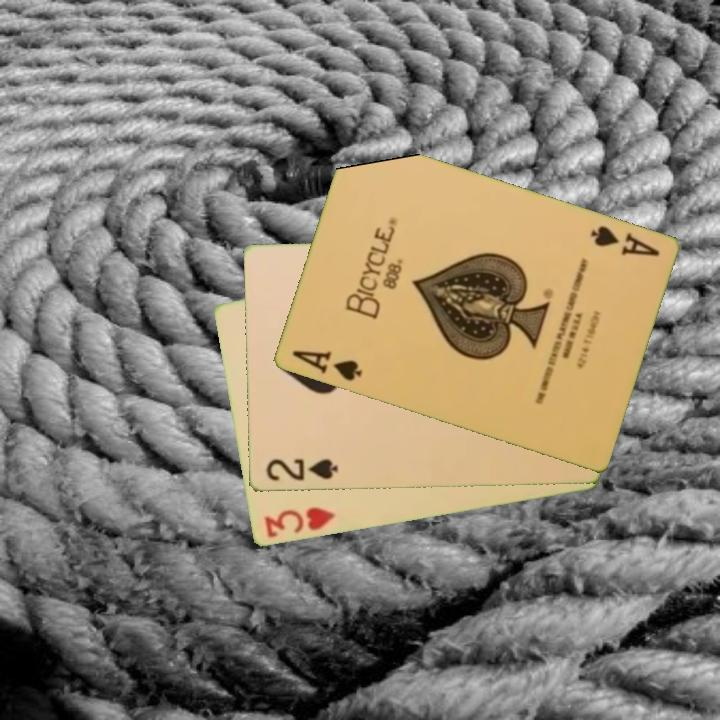2s: (262, 455, 340, 484)
3h: (260, 503, 338, 541)
As: (288, 347, 365, 385), (586, 222, 662, 260)
